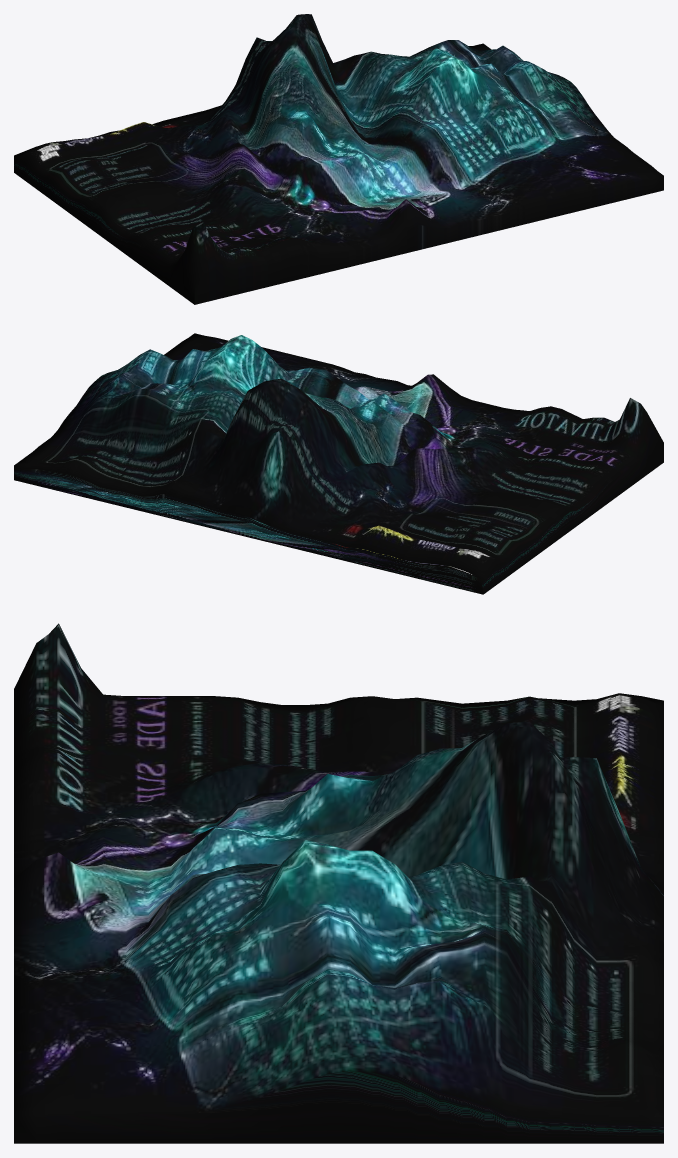
Rendered from CAREER_07_Tool_02_Jade_Slip.glb.
3 renders of one model, top to bottom at view 1: azimuth 30°, elevation 25°; view 2: azimuth 150°, elevation 25°; view 3: azimuth 270°, elevation 25°, orthographic. The views are drawn at different scales.
Visible parts, largest first — view 1: CAREER_07_Tool_02_Jade_Slip; view 2: CAREER_07_Tool_02_Jade_Slip; view 3: CAREER_07_Tool_02_Jade_Slip.
Boxes of the visible parts, box(x1,y1,x2,y2) form: CAREER_07_Tool_02_Jade_Slip: box(14, 14, 663, 304); CAREER_07_Tool_02_Jade_Slip: box(14, 333, 663, 594); CAREER_07_Tool_02_Jade_Slip: box(14, 623, 663, 1143).
Size of the model in its own units: 2 by 0.51 by 1.33.
Materials: 1 (1 with a texture image).
